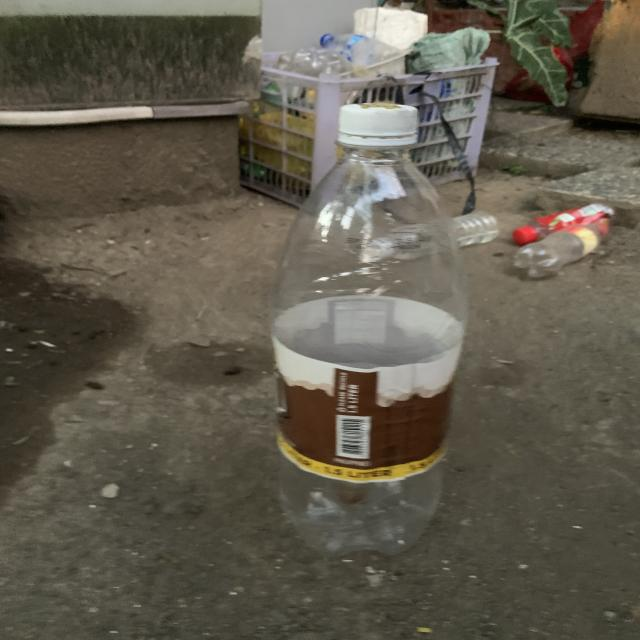Bottle: (272, 103, 467, 554)
